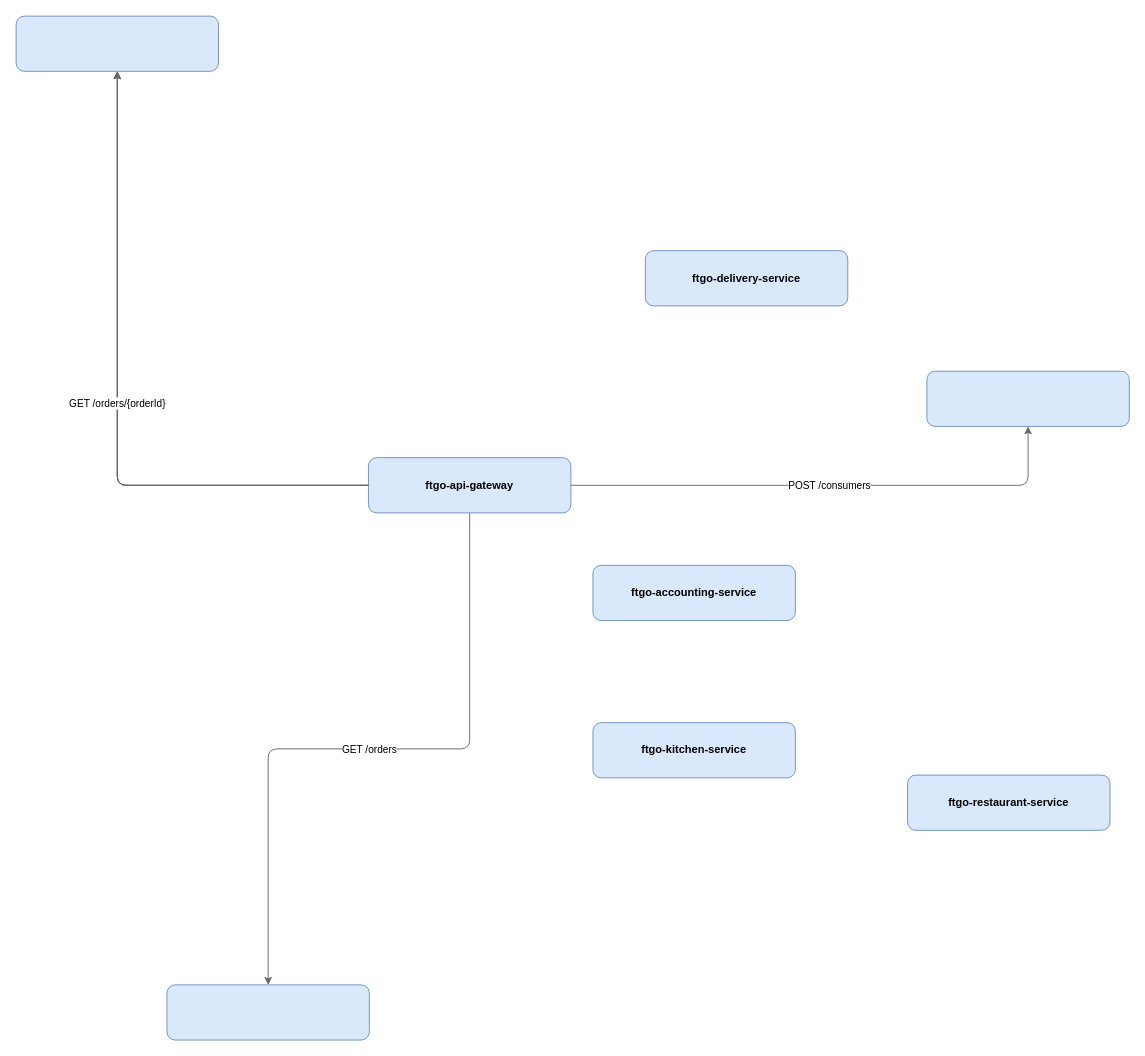
Image size: 1145x1056. Some labels were removed from this diagram. The centre of each missing label's shape, as x and y in pixels:
ftgo-consumer-service: point (1027, 398)
ftgo-order-history-service: point (267, 1012)
ftgo-order-service: point (116, 43)
